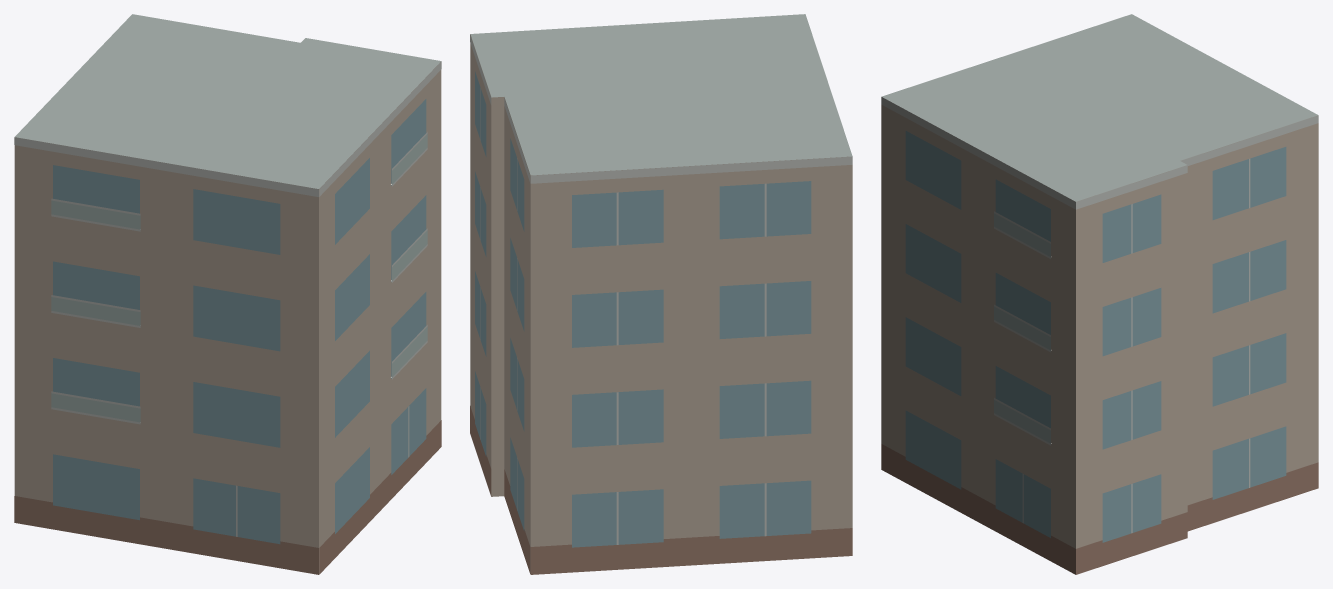
File: residential-971224e5-fbba-4636-b1af-287a43edd2fd.glb
The picture shows the model from 3 angles, left to right: view 1: azimuth 30°, elevation 25°; view 2: azimuth 150°, elevation 25°; view 3: azimuth 270°, elevation 25°; orthographic projection. The views are drawn at different scales.
Visible parts, largest first — view 1: residential-971224e5-fbba-4636-b1af-287a43edd2fd.tmp; view 2: residential-971224e5-fbba-4636-b1af-287a43edd2fd.tmp; view 3: residential-971224e5-fbba-4636-b1af-287a43edd2fd.tmp.
Part boxes in pixels (x1,y1,x2,y2): residential-971224e5-fbba-4636-b1af-287a43edd2fd.tmp: (14, 14, 441, 574); residential-971224e5-fbba-4636-b1af-287a43edd2fd.tmp: (470, 14, 852, 574); residential-971224e5-fbba-4636-b1af-287a43edd2fd.tmp: (881, 14, 1318, 574).
Size of the model in its own units: 12.59 by 11.65 by 12.39.
